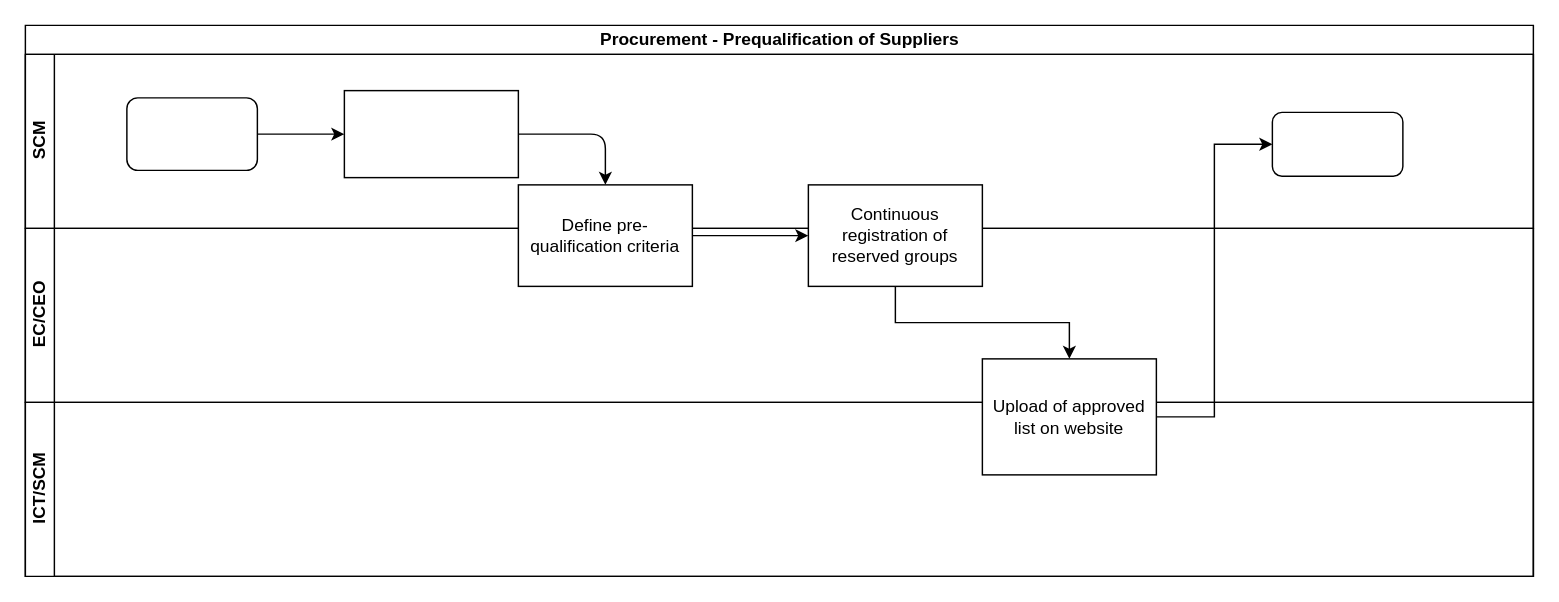
Some shapes in this 1559 by 602 pixel diagram are drawn without their labels. Here are the shapes that lost their labels. From the top down, the centre of each, then its label:
point 191,133: Start
point 430,133: Identification and Creation of categories for good, work, services
point 1337,143: End
